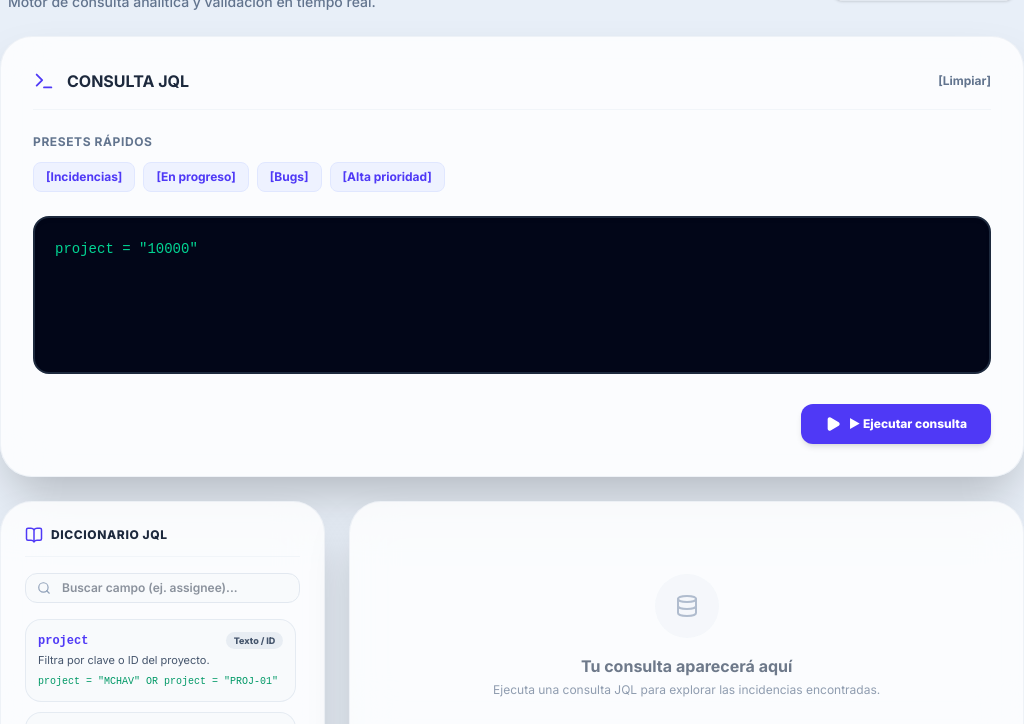
Test case: JqlConsultasView › executes successful jql query
Step 1. Click the button "▶ Ejecutar consulta" → (896, 424), box [801,404,991,444]
(page scrolled)
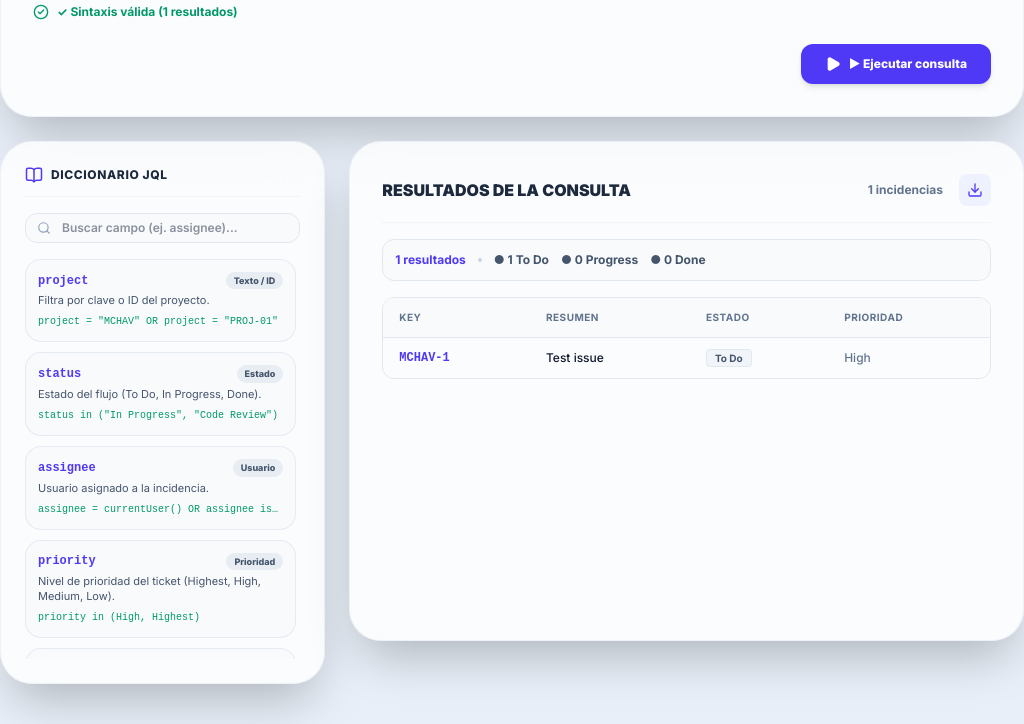
expect the text "✓ Sintaxis válida (1 resultados)" is shown: met, box [33,4,238,20]
expect the text "MCHAV-1" is shown: met, box [383,337,530,378]
expect the text "Test issue" is shown: met, box [530,337,690,378]
